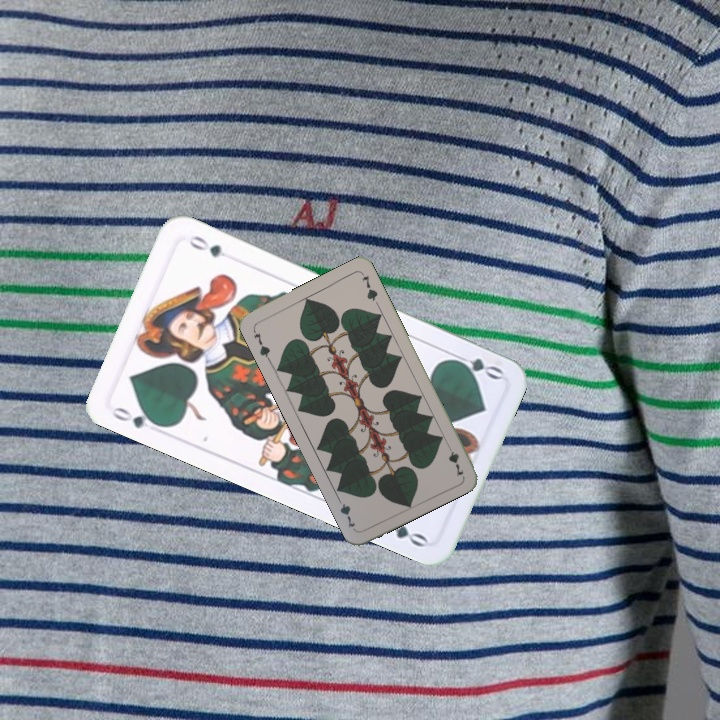G7: (442, 439, 467, 479), (249, 325, 273, 363)
GO: (446, 349, 505, 383), (107, 402, 166, 436)
